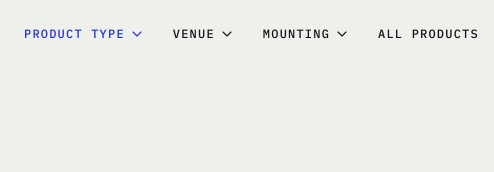
Test: MegaMenu › only one panel is open at a time
The image size is (494, 172).
Click the button "Product type".
click(84, 34)  # box left=12, top=12, right=157, bottom=56
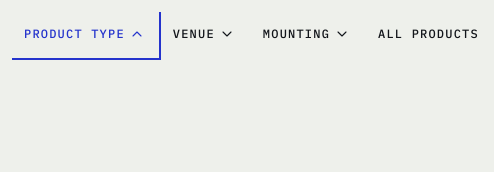
Click the button "Venue".
click(204, 34)  # box left=161, top=12, right=247, bottom=56
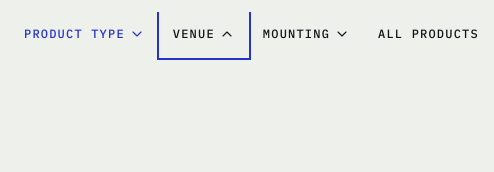
Now the button "Product type" is collapsed, box left=12, top=12, right=157, bottom=56
Now the button "Venue" is expanded, box left=161, top=12, right=247, bottom=56
